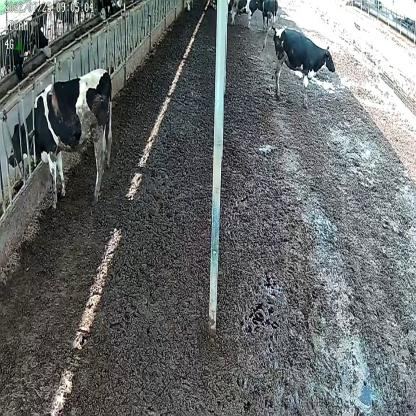cow: (9, 66, 114, 209), (262, 24, 338, 109), (230, 0, 262, 27), (259, 0, 279, 31)
